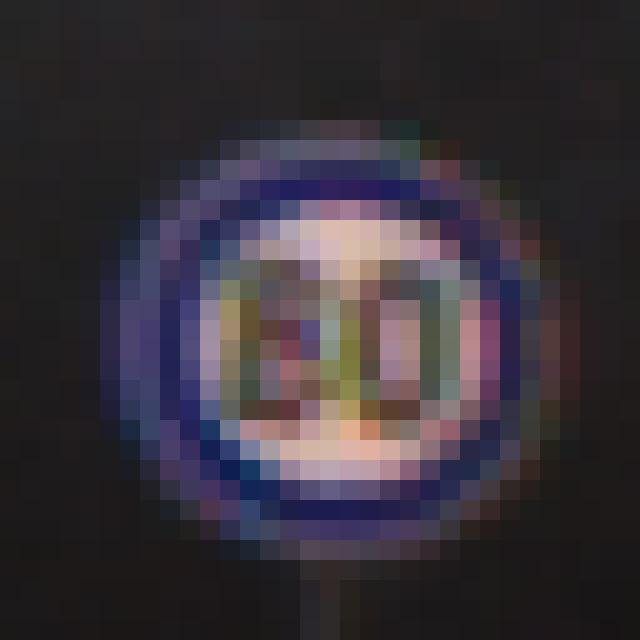SPEED-LIMIT-80: (121, 115, 557, 568)
